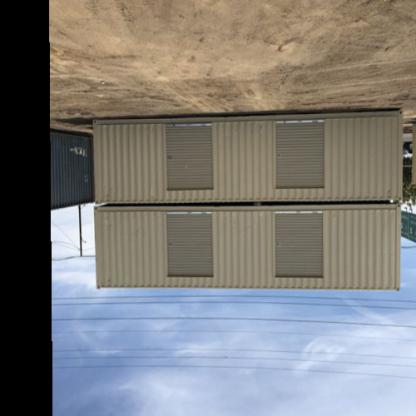Damage: (164, 152, 192, 172), (309, 166, 333, 182), (162, 240, 184, 257), (267, 238, 291, 252), (272, 150, 286, 161)
